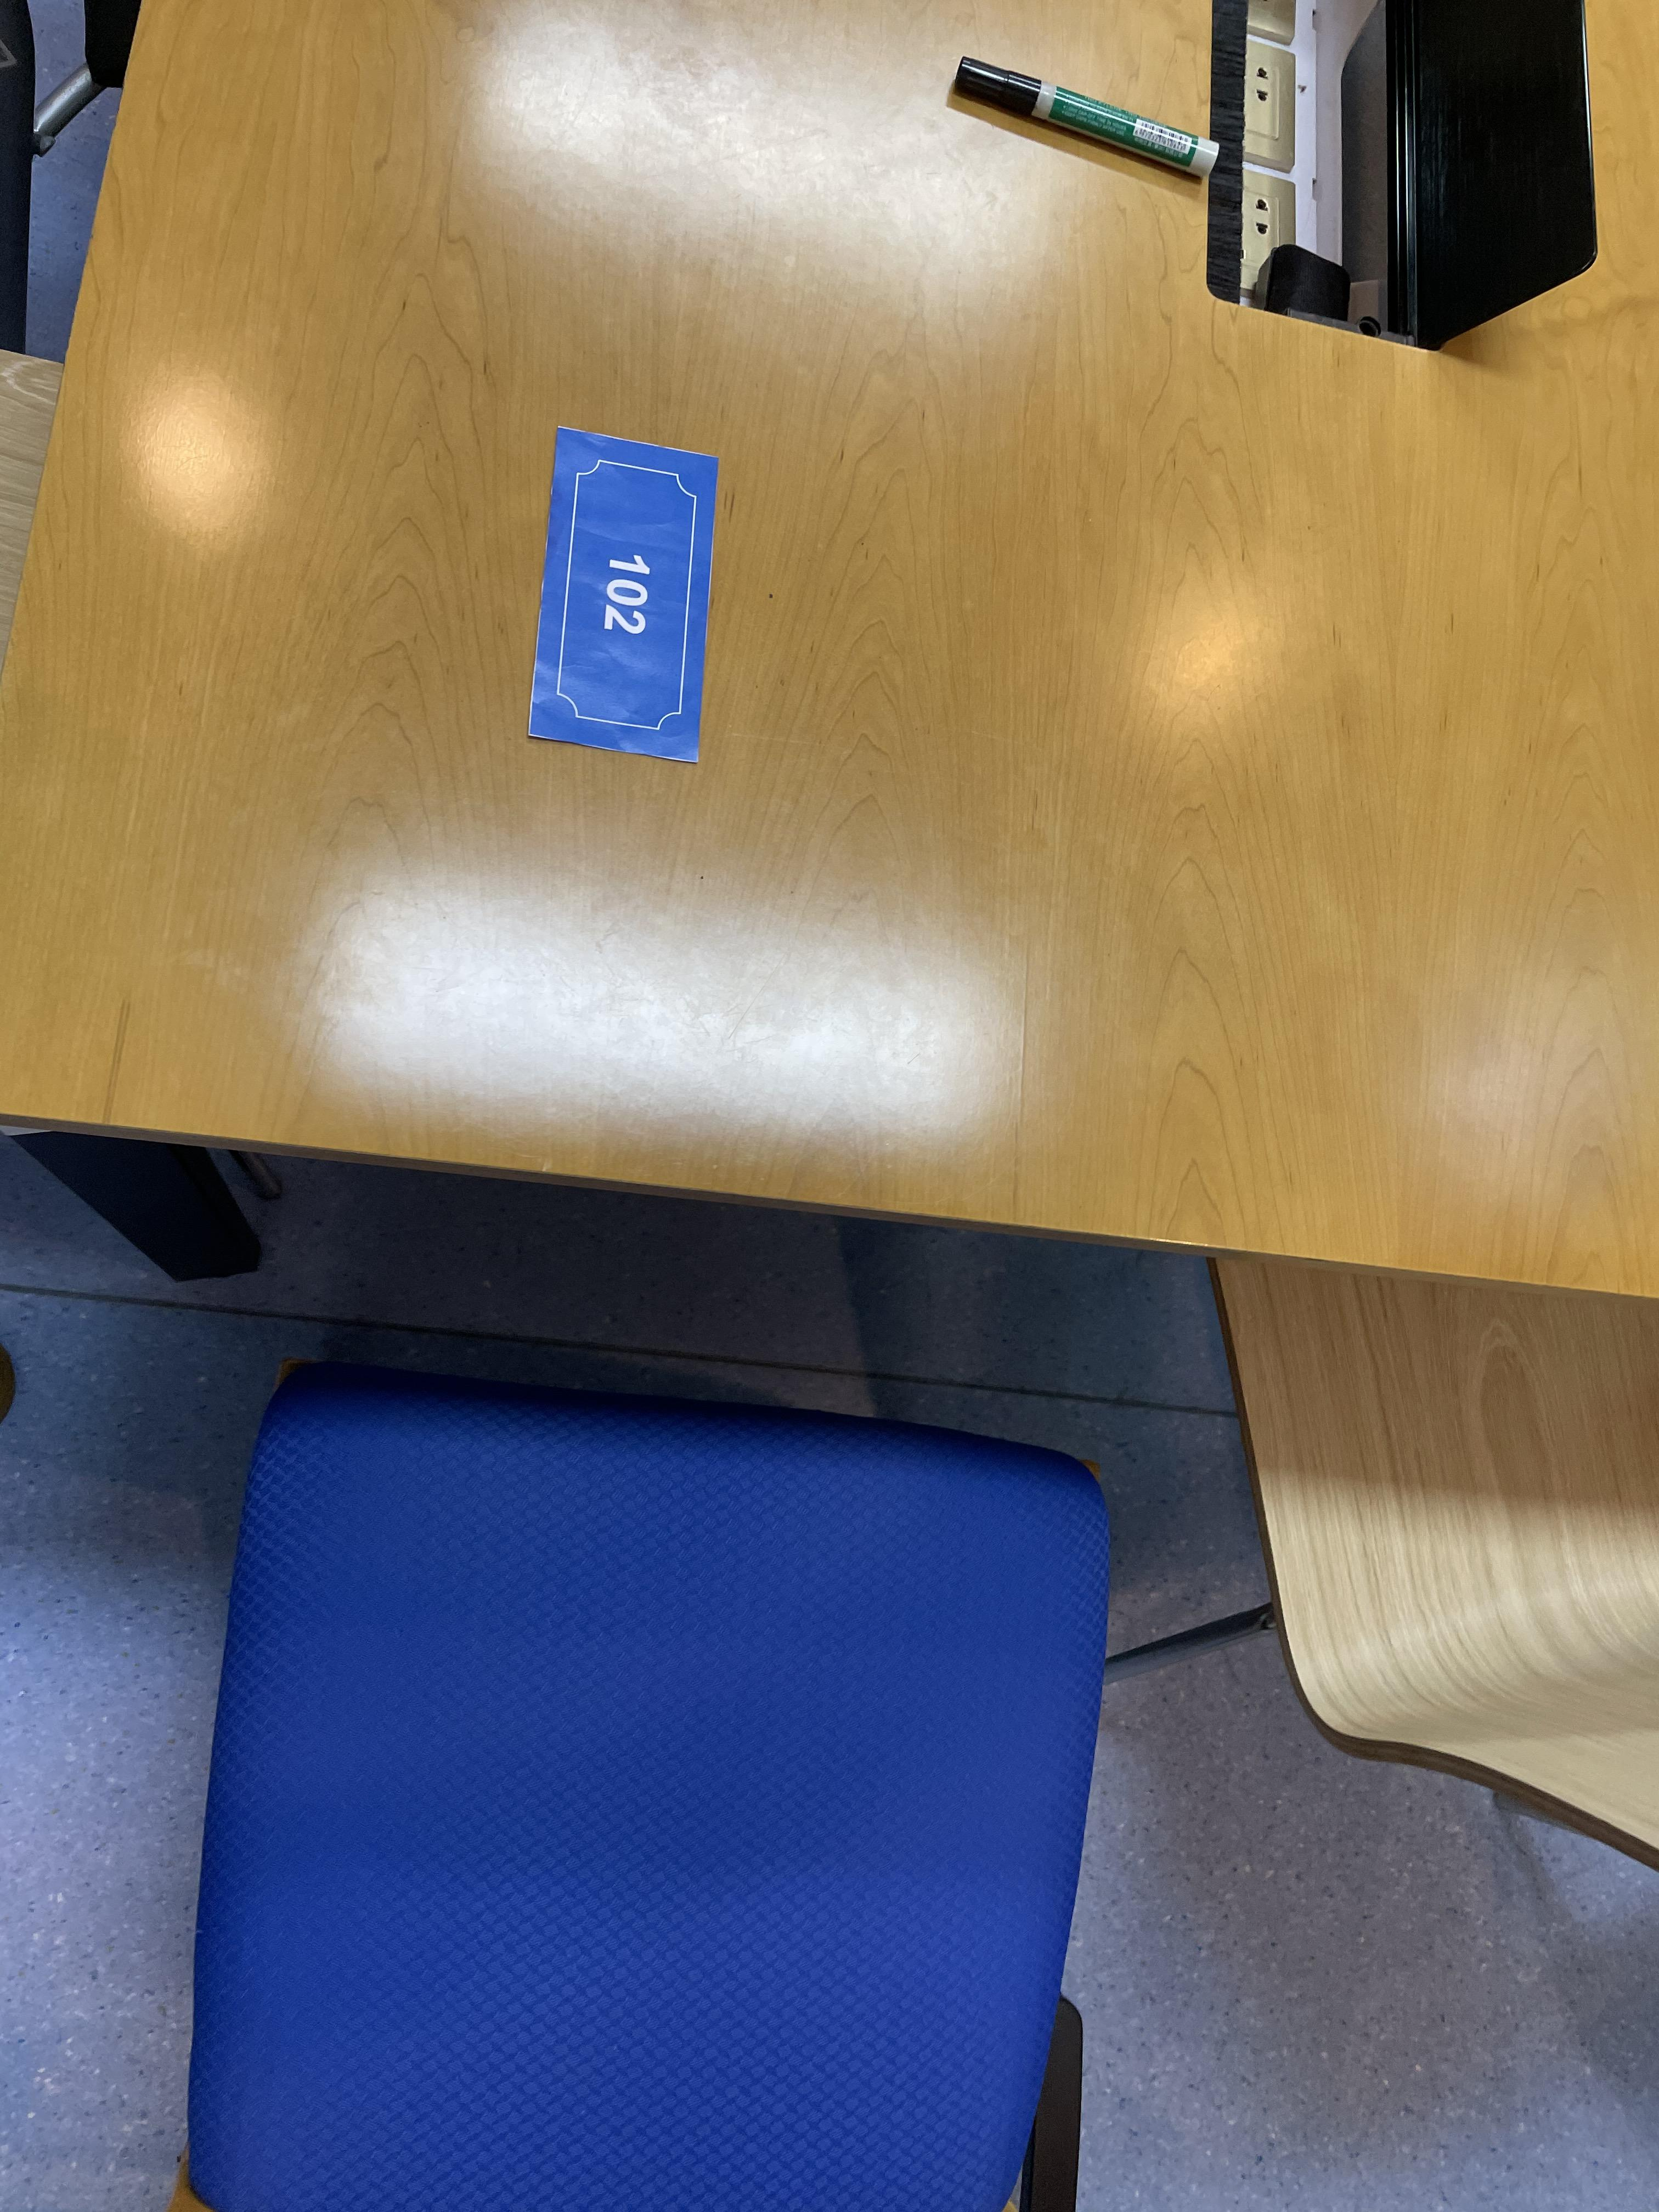Card: (518, 380, 732, 766)
